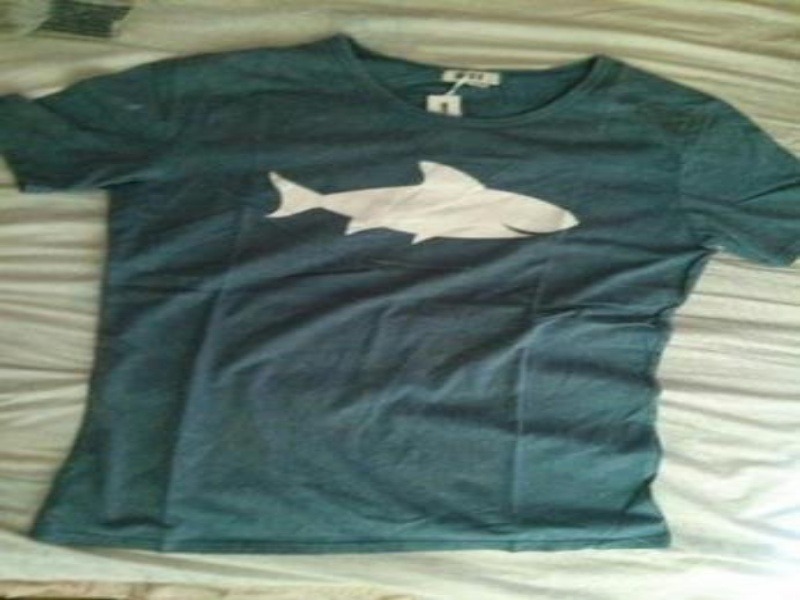short_sleeved_shirt: (7, 31, 798, 567)
